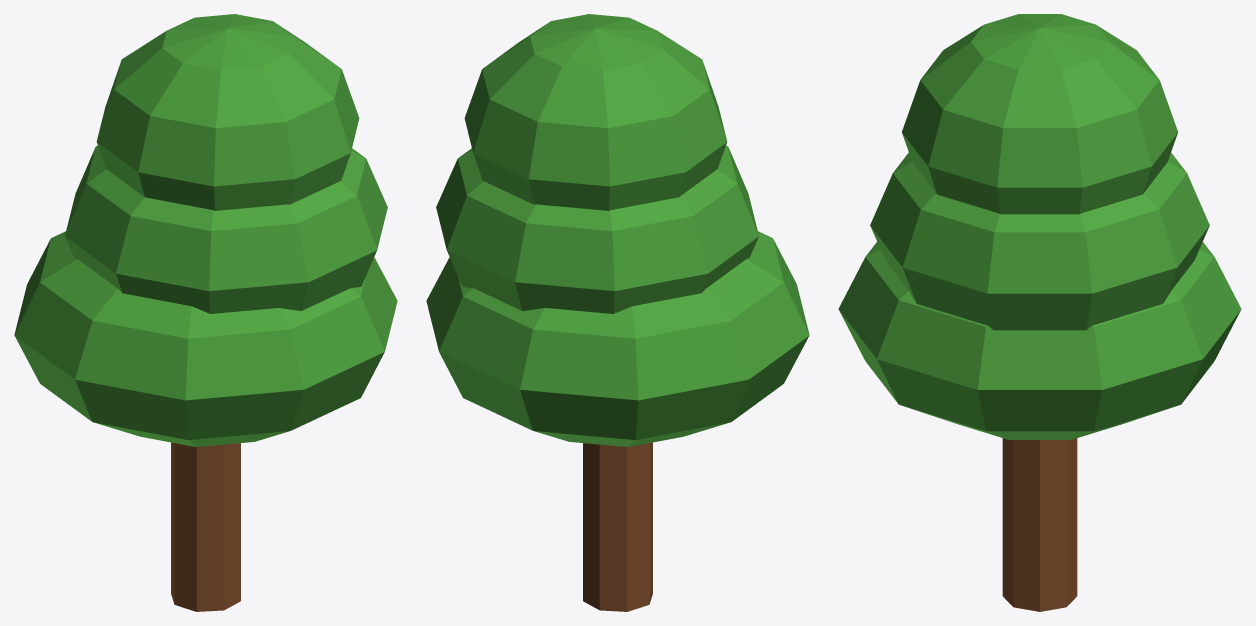
Rendered from ENV_Greenwood_Tree_A_V1.glb.
3 views of the same model, side by side, from view 1: azimuth 30°, elevation 25°; view 2: azimuth 150°, elevation 25°; view 3: azimuth 270°, elevation 25° (orthographic). The views are drawn at different scales.
Parts seen in each view (by area): view 1: Canopy_0, Canopy_2, Canopy_1, Trunk; view 2: Canopy_0, Canopy_2, Canopy_1, Trunk; view 3: Canopy_2, Canopy_0, Canopy_1, Trunk.
Part boxes in pixels (x1,y1,x2,y2): Canopy_0: (14, 231, 397, 446); Canopy_2: (96, 14, 359, 210); Canopy_1: (65, 145, 387, 313); Trunk: (171, 442, 240, 611); Canopy_0: (426, 231, 809, 446); Canopy_2: (464, 14, 727, 210); Canopy_1: (436, 145, 758, 313); Trunk: (583, 442, 652, 611); Canopy_2: (902, 14, 1177, 214); Canopy_0: (838, 242, 1241, 439); Canopy_1: (870, 152, 1209, 330); Trunk: (1002, 438, 1077, 611).
Bounding box in the file's own units: 6.66 × 11.1 × 7.
